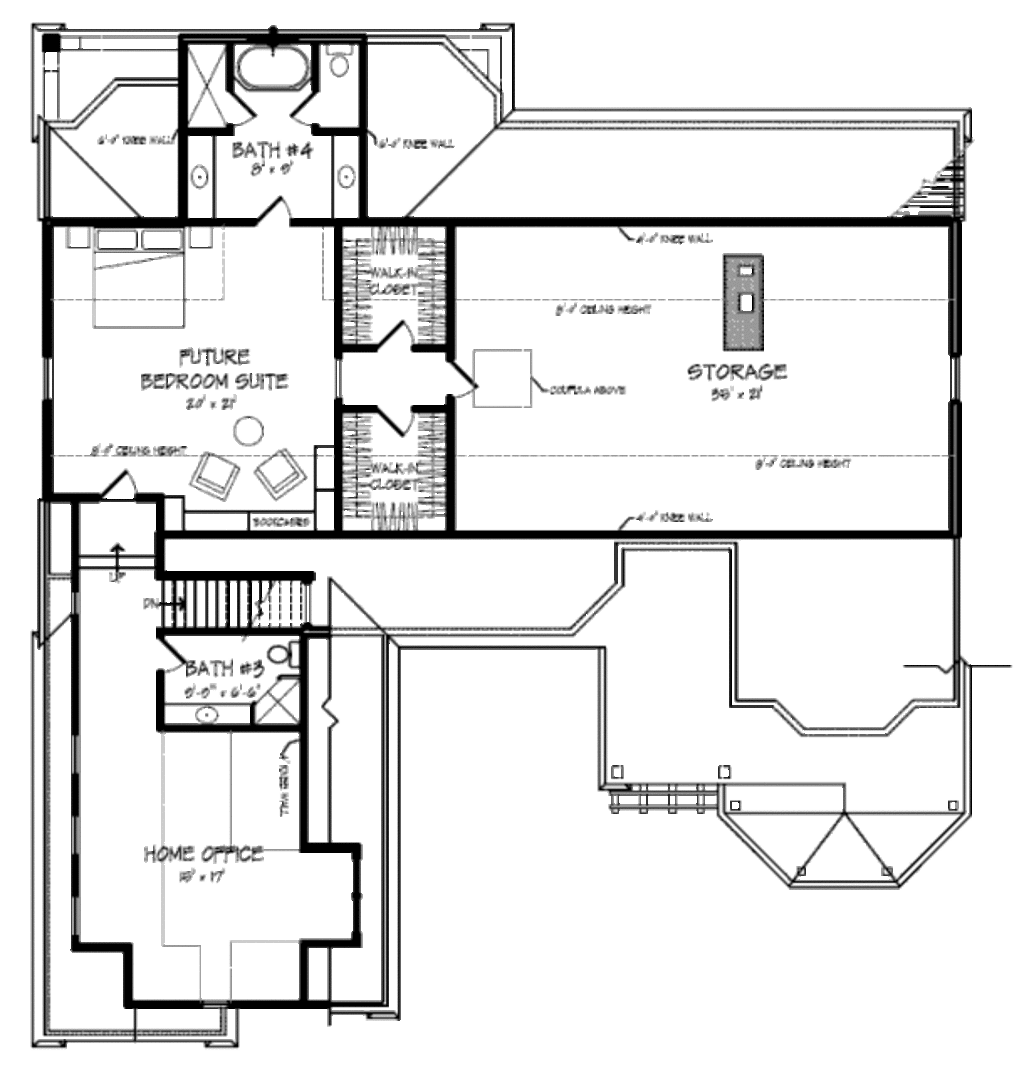bed: (90, 224, 189, 335)
door: (98, 466, 137, 507), (374, 400, 416, 436), (152, 636, 184, 679), (445, 361, 476, 404), (253, 196, 289, 230), (375, 322, 412, 352)
large_sink: (318, 41, 359, 79), (259, 639, 303, 673)
small_sink: (158, 697, 261, 732), (328, 134, 366, 225), (182, 134, 218, 221)
small_sofa: (246, 449, 305, 507), (188, 447, 241, 502)
stairs: (137, 579, 310, 639)
tub: (231, 45, 312, 99)
windows: (940, 344, 972, 403)
